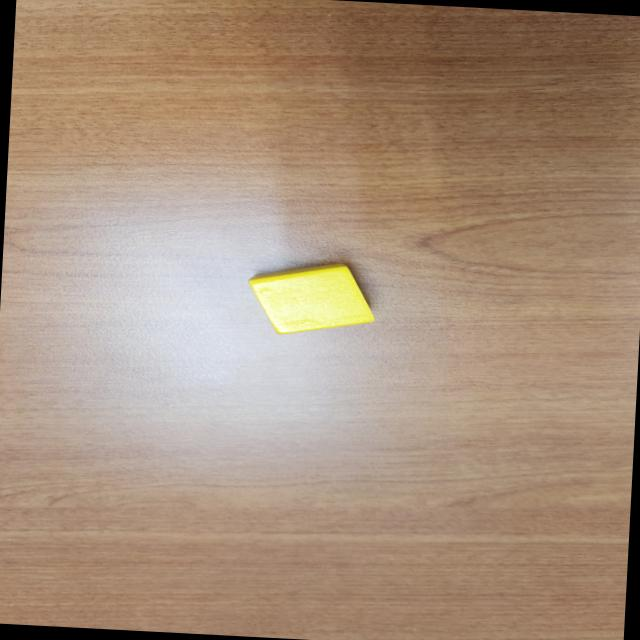yellow: (246, 257, 382, 339)
